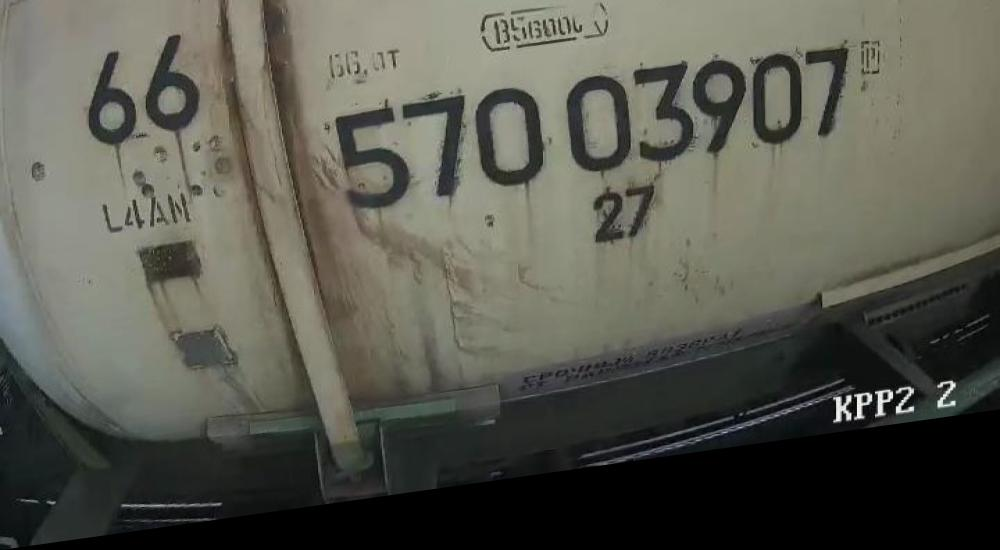Wagon-number: (331, 58, 858, 232)
